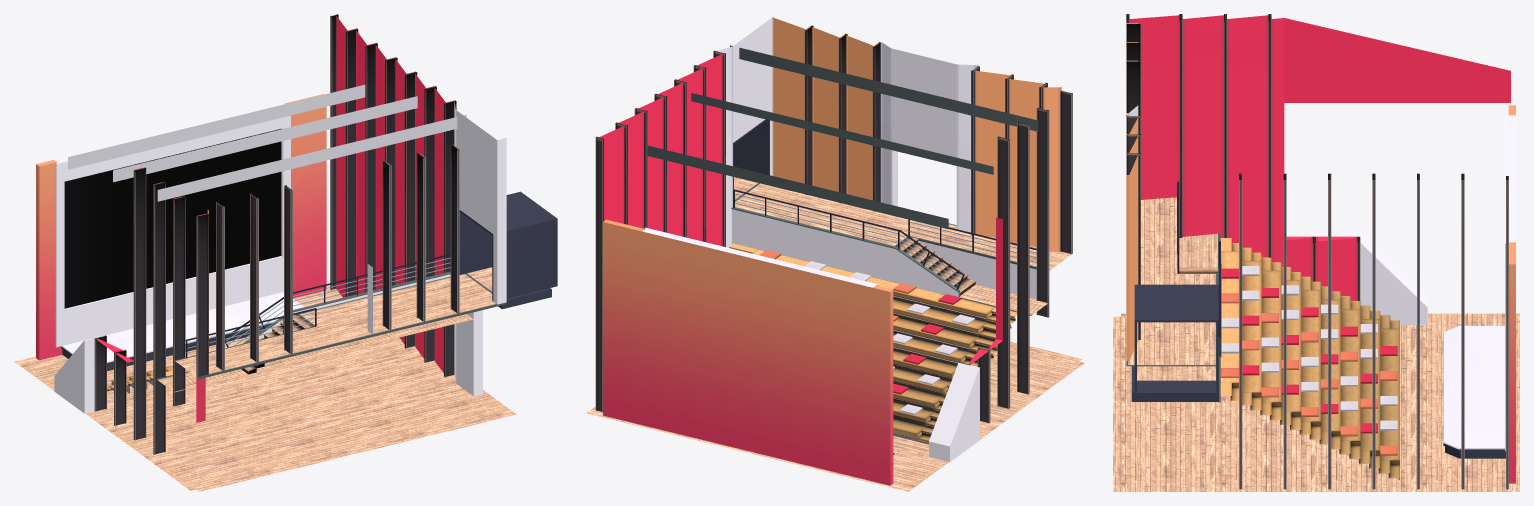
The model's file is TeachingCommunityInteriorLectureTheatre01.glb.
3 views of the same model, side by side, from view 1: azimuth 30°, elevation 25°; view 2: azimuth 150°, elevation 25°; view 3: azimuth 270°, elevation 25° (orthographic). The views are drawn at different scales.
Visible parts, largest first — view 1: TCV_LectureTheatreStage, TCV_LectureTheatreFloor, TCV_LectureTheatreWallLeft, TCV_LectureTheatreWallRight, TCV_LectureTheatreStairs1, TCV_LectureTheatreRoof01, TCV_LectureTheatreWallBack, TCV_LectureTheatreConnector, TCV_LectureTheatreStairRailings; view 2: TCV_LectureTheatreStage, TCV_LectureTheatreWallBack, TCV_LectureTheatreWallLeft, TCV_LectureTheatreStairs1, TCV_LectureTheatreWallRight, TCV_LectureTheatreSeatsBase, TCV_LectureTheatreRoof01, TCV_LectureTheatreFloor, TCV_LectureTheatreStairRailings, TCV_LectureTheatreConnector; view 3: TCV_LectureTheatreWallRight, TCV_LectureTheatreFloor, TCV_LectureTheatreSeatsBase, TCV_LectureTheatreStage, TCV_LectureTheatreStairs1, TCV_LectureTheatreWallLeft, TCV_LectureTheatreConnector, TCV_LectureTheatreWallBack, TCV_LectureTheatreStairRailings.
Boxes of the visible parts, x1,y1,x2,y2 form: TCV_LectureTheatreStage: (36, 94, 326, 371); TCV_LectureTheatreFloor: (14, 285, 516, 491); TCV_LectureTheatreWallLeft: (330, 14, 506, 396); TCV_LectureTheatreWallRight: (54, 167, 208, 454); TCV_LectureTheatreStairs1: (156, 267, 506, 392); TCV_LectureTheatreRoof01: (68, 84, 466, 201); TCV_LectureTheatreWallBack: (207, 144, 459, 371); TCV_LectureTheatreConnector: (459, 191, 557, 309); TCV_LectureTheatreStairRailings: (185, 254, 450, 358); TCV_LectureTheatreStage: (603, 219, 894, 485); TCV_LectureTheatreWallBack: (772, 17, 1061, 251); TCV_LectureTheatreWallLeft: (595, 16, 773, 412); TCV_LectureTheatreStairs1: (731, 177, 1070, 315); TCV_LectureTheatreWallRight: (929, 90, 1072, 461); TCV_LectureTheatreSeatsBase: (729, 243, 1016, 444); TCV_LectureTheatreRoof01: (647, 45, 1038, 229); TCV_LectureTheatreFloor: (586, 341, 1084, 491); TCV_LectureTheatreStairRailings: (733, 189, 1036, 289); TCV_LectureTheatreConnector: (733, 119, 769, 206); TCV_LectureTheatreWallRight: (1126, 14, 1510, 324); TCV_LectureTheatreFloor: (1113, 313, 1519, 491); TCV_LectureTheatreSeatsBase: (1220, 238, 1399, 479); TCV_LectureTheatreStage: (1443, 105, 1515, 483); TCV_LectureTheatreStairs1: (1126, 197, 1221, 402); TCV_LectureTheatreWallLeft: (1239, 173, 1508, 489); TCV_LectureTheatreConnector: (1131, 284, 1218, 401); TCV_LectureTheatreWallBack: (1126, 23, 1140, 360); TCV_LectureTheatreStairRailings: (1177, 181, 1220, 356).
Size of what is drawn, in the model's own units: 24.89 by 17.51 by 20.74.
Materials: 5 (5 with a texture image).
